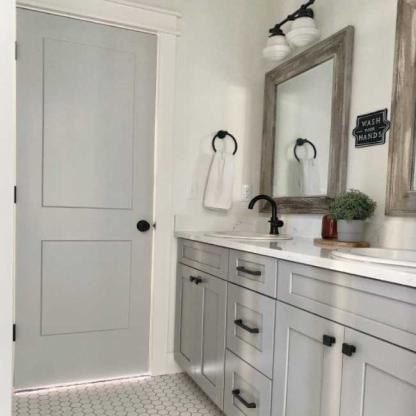door: (17, 5, 153, 389)
